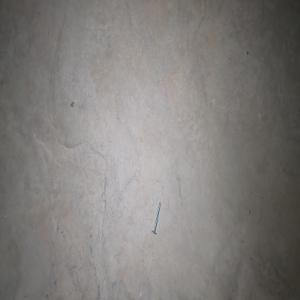Bolt: (151, 200, 161, 235)
